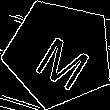M_NE: (25, 20, 93, 87)
